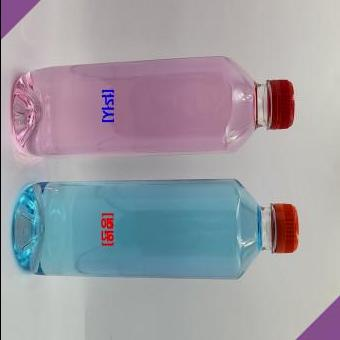bottle: (10, 56, 294, 158), (12, 179, 297, 279)
